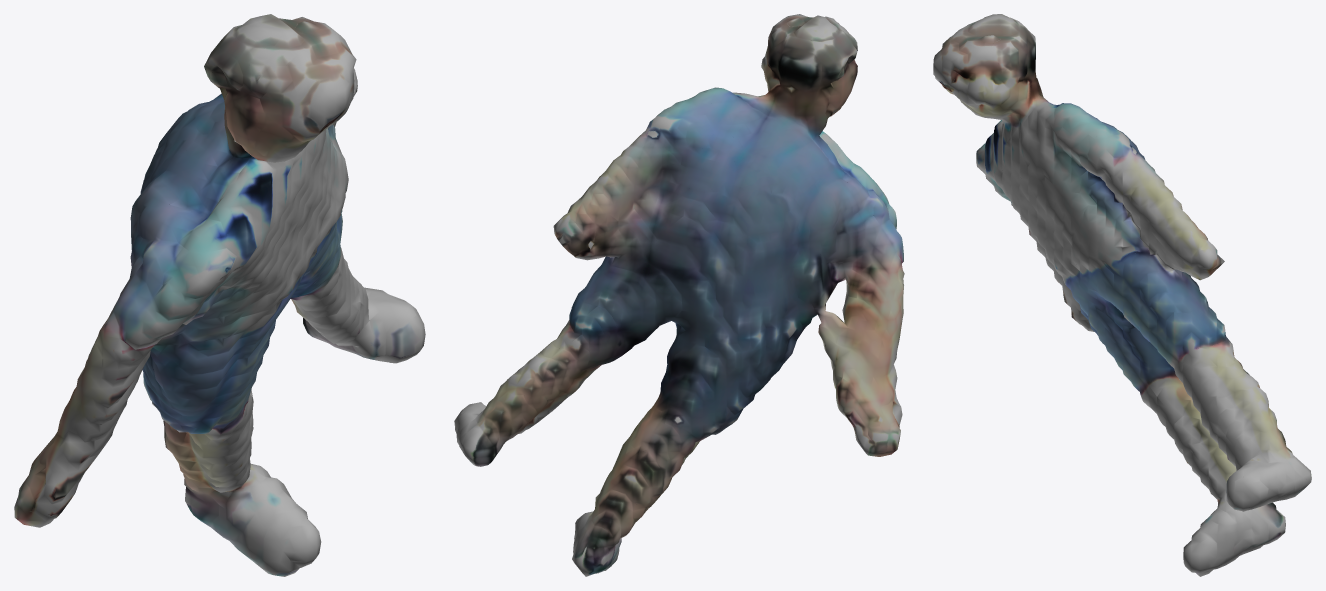
The model's file is lying-patient-baked.glb.
The picture shows the model from 3 angles, left to right: view 1: azimuth 30°, elevation 25°; view 2: azimuth 150°, elevation 25°; view 3: azimuth 270°, elevation 25°; orthographic projection. The views are drawn at different scales.
Parts seen in each view (by area): view 1: mesh.glb; view 2: mesh.glb; view 3: mesh.glb.
Part boxes in pixels (bbox=[...]): mesh.glb: bbox=[14, 14, 425, 576]; mesh.glb: bbox=[454, 14, 904, 576]; mesh.glb: bbox=[933, 14, 1311, 576].
Size of the model in its own units: 0.669 by 0.8753 by 0.6018.
Materials: 1 (1 with a texture image).
